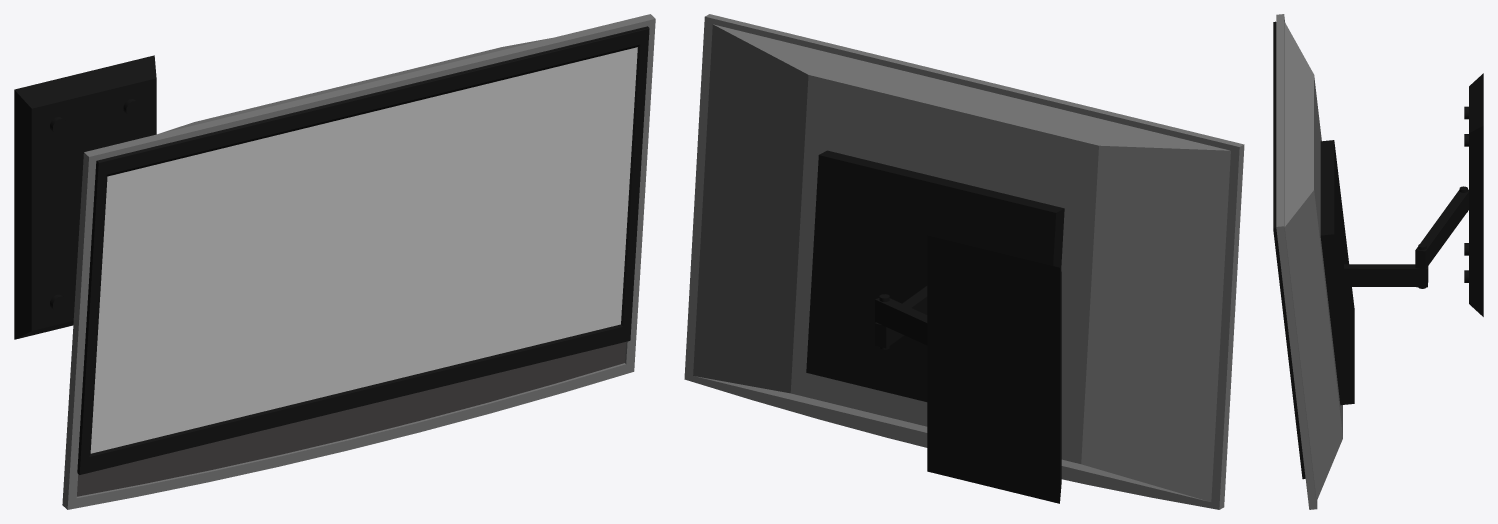
3 renders of one model, left to right at view 1: azimuth 30°, elevation 25°; view 2: azimuth 150°, elevation 25°; view 3: azimuth 270°, elevation 25°, orthographic. The views are drawn at different scales.
Parts seen in each view (by area): view 1: tv; view 2: tv; view 3: tv.
Part boxes in pixels (<box>): tv: <box>14,14,655,509</box>; tv: <box>684,14,1244,509</box>; tv: <box>1273,14,1483,509</box>.
Size of the model in its own units: 103 by 66.15 by 43.4.
